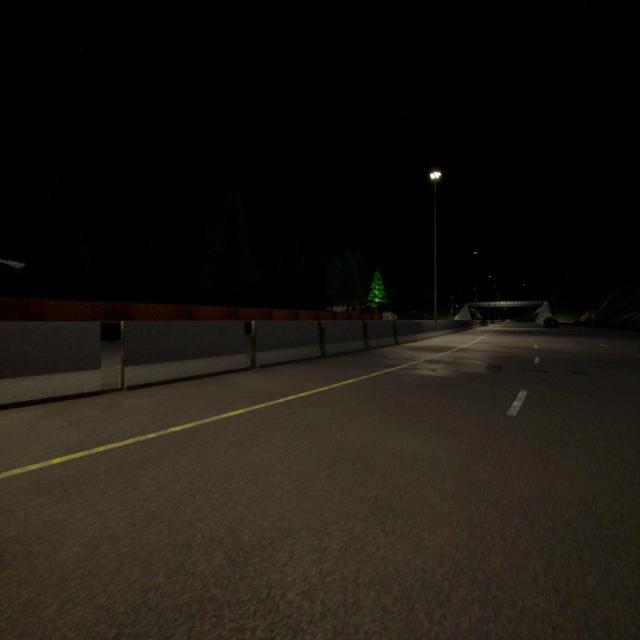Vehicle: (544, 316, 559, 328)
